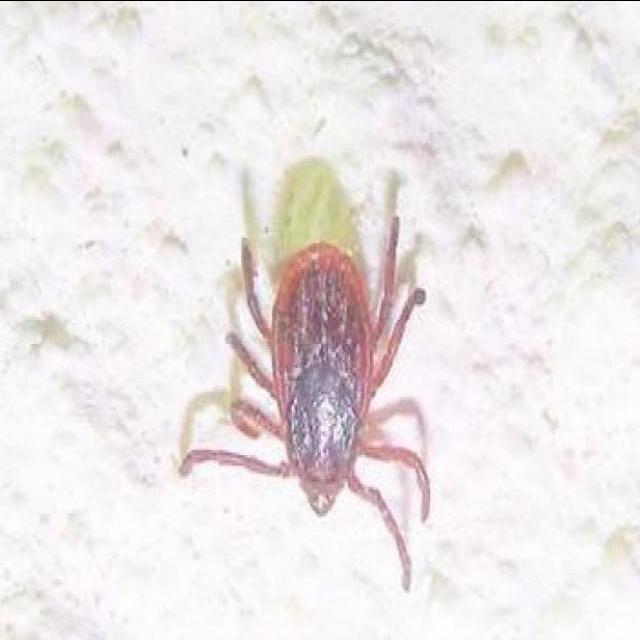Rhipicephalus Sanguineus-F: (181, 213, 430, 592)
